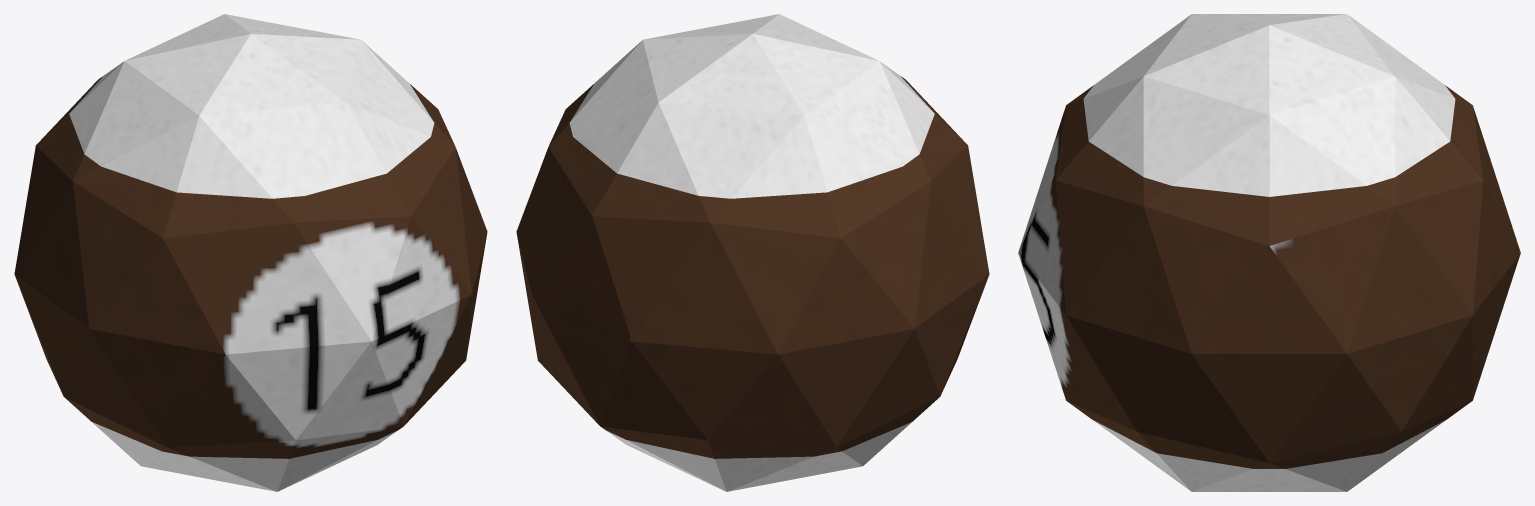
File: pool_ball_15.obj
3 renders of one model, left to right at view 1: azimuth 30°, elevation 25°; view 2: azimuth 150°, elevation 25°; view 3: azimuth 270°, elevation 25°, orthographic. The views are drawn at different scales.
Parts seen in each view (by area): view 1: PoolBall_15; view 2: PoolBall_15; view 3: PoolBall_15.
Part boxes in pixels (x1,y1,x2,y2): PoolBall_15: [14, 14, 487, 491]; PoolBall_15: [516, 14, 989, 491]; PoolBall_15: [1018, 14, 1520, 491].
Size of the model in its own units: 0.0709 by 0.0745 by 0.0745.
Materials: 1 (1 with a texture image).
